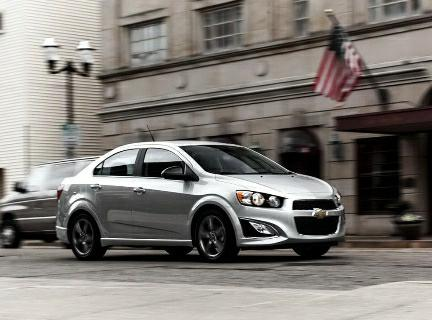car: (47, 129, 353, 274)
